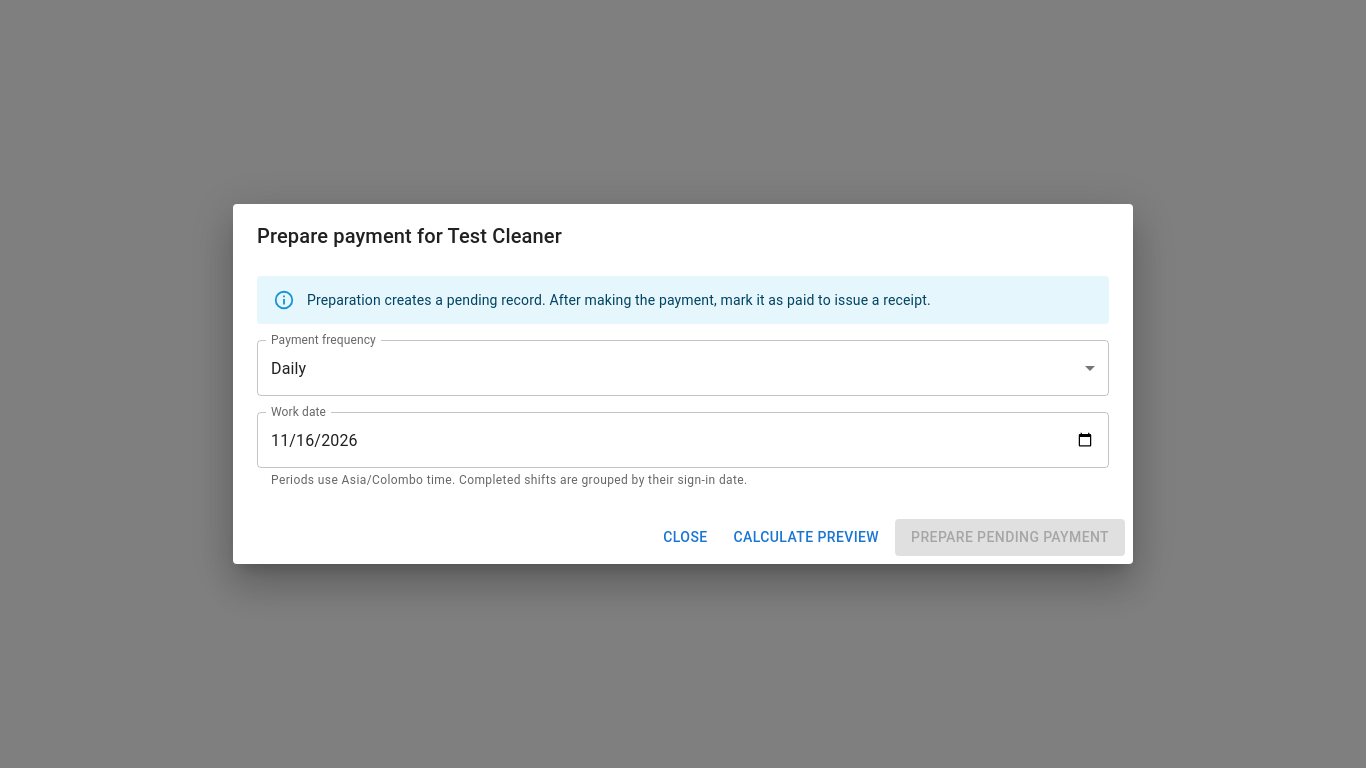
requires a completed job for per-job payments and loads assigned jobs lazily
Later steps or results of the test are not shown.
Press the mouse on the dropdown named "Payment frequency" at coordinates (289, 368), box [271, 359, 306, 378]
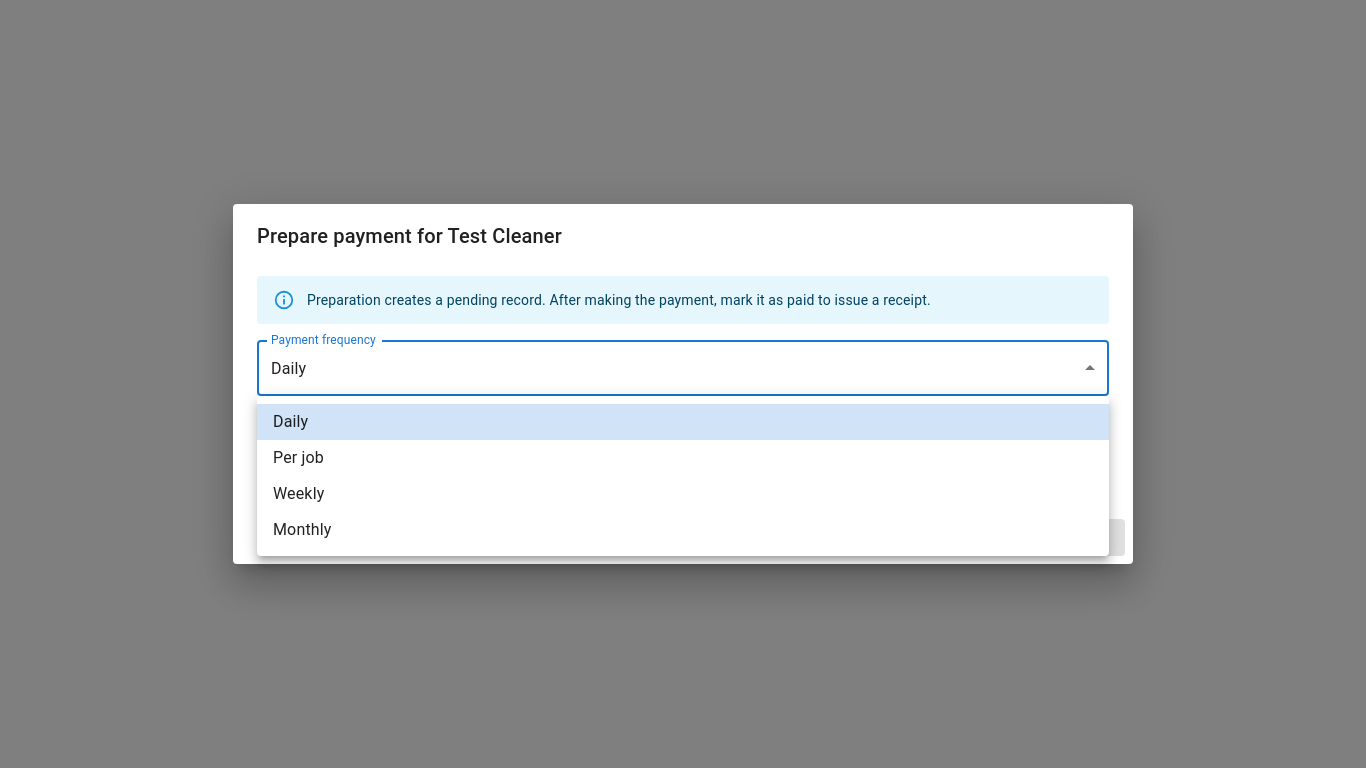
Now the option "Daily" is shown, box [257, 404, 1109, 440]
Now the option "Per job" is shown
Now the option "Weekly" is shown, box [273, 484, 324, 503]
Click the option "Per job" at coordinates (298, 458), box [273, 448, 324, 467]
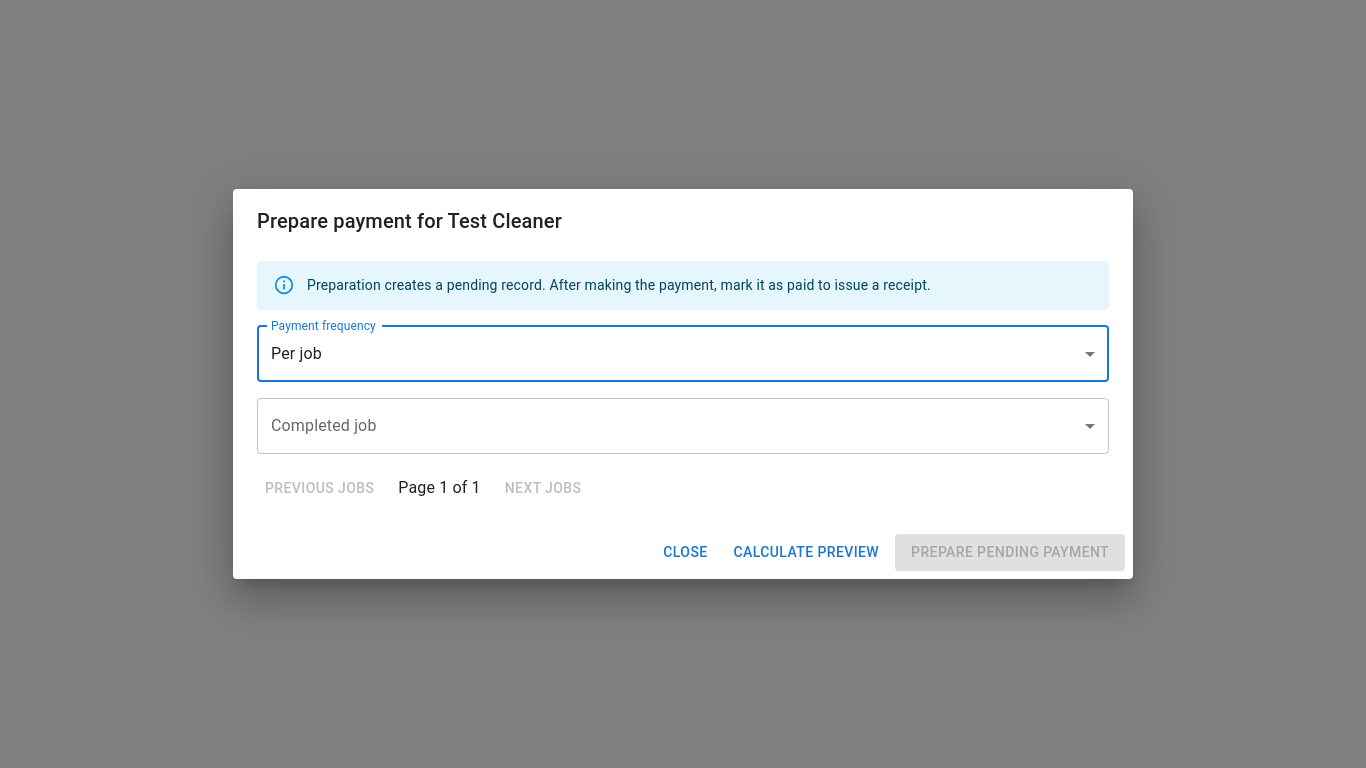
Click the button "Calculate preview" at coordinates (806, 552), box [725, 534, 887, 570]
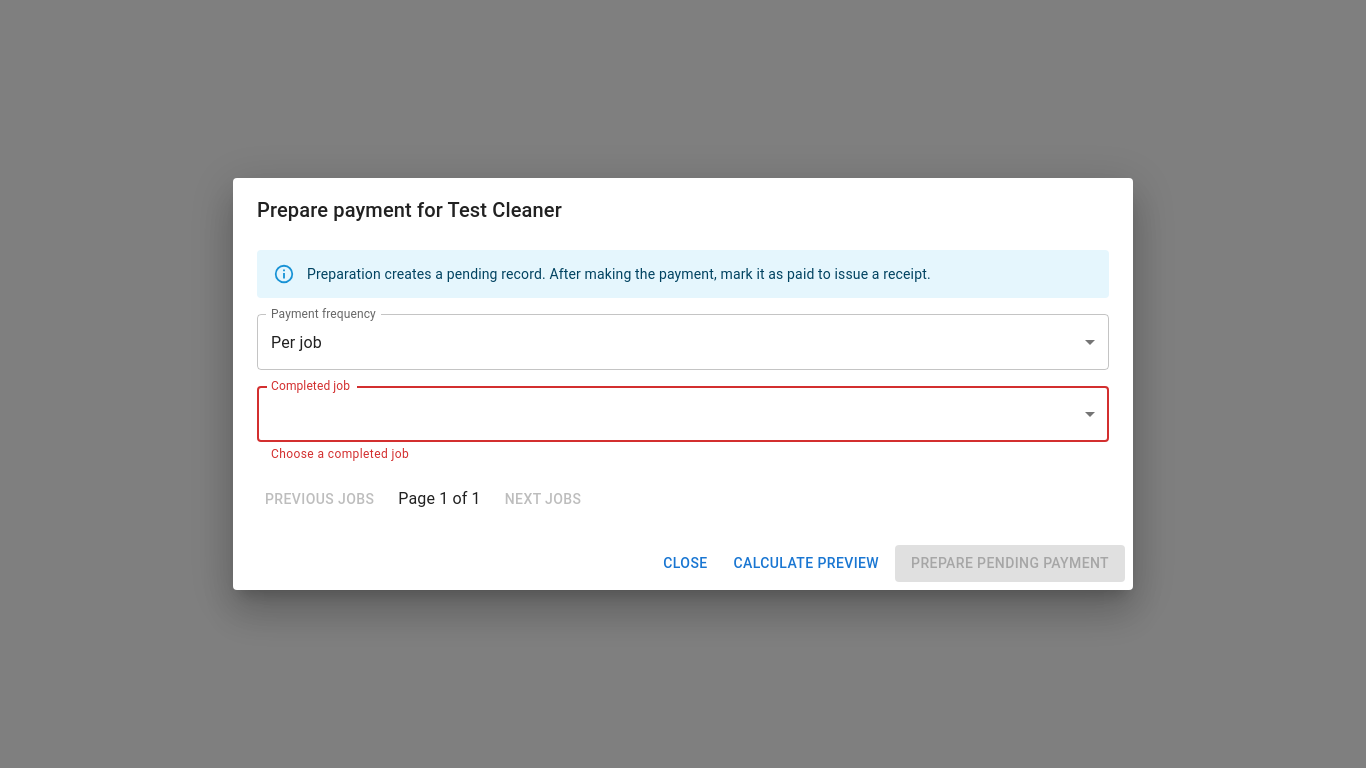
Now the text "Choose a completed job" is shown, box [271, 447, 409, 461]
